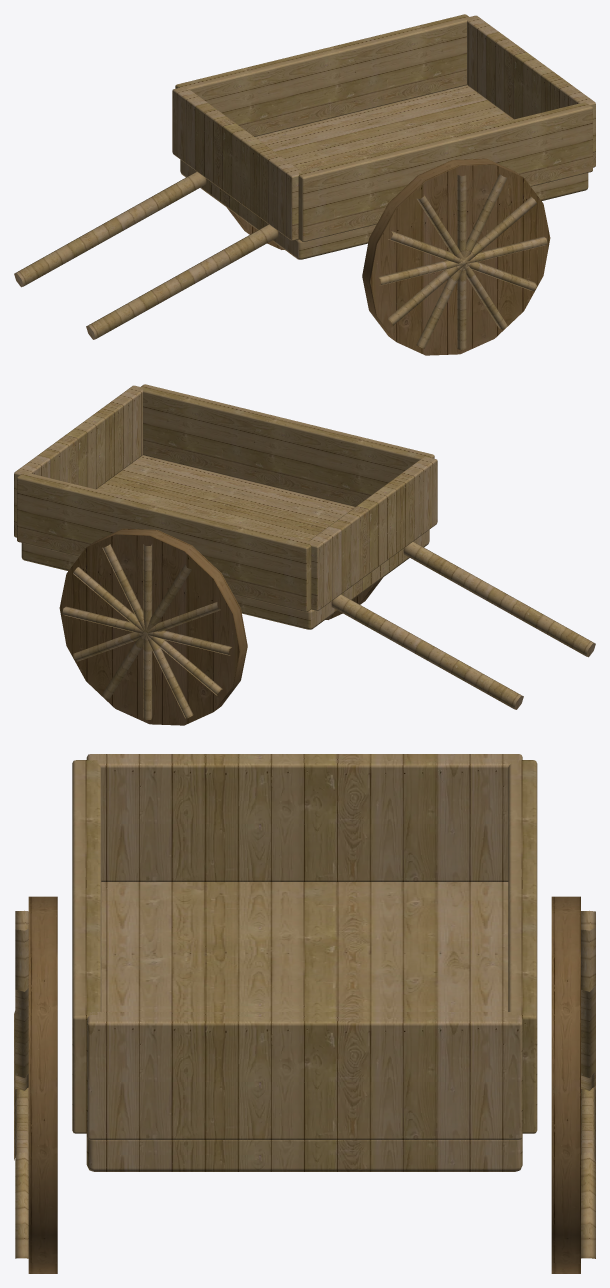
The model's file is cart.glb.
The picture shows the model from 3 angles, top to bottom: view 1: azimuth 30°, elevation 25°; view 2: azimuth 150°, elevation 25°; view 3: azimuth 270°, elevation 25°; orthographic projection. The views are drawn at different scales.
Visible parts, largest first — view 1: prop; view 2: prop; view 3: prop.
Part boxes in pixels (<box>): prop: <box>14,14,595,355</box>; prop: <box>14,384,595,725</box>; prop: <box>14,754,595,1273</box>.
Bounding box in the file's own units: 1.4 × 0.56 × 0.801.
1 material, 1 textured.
